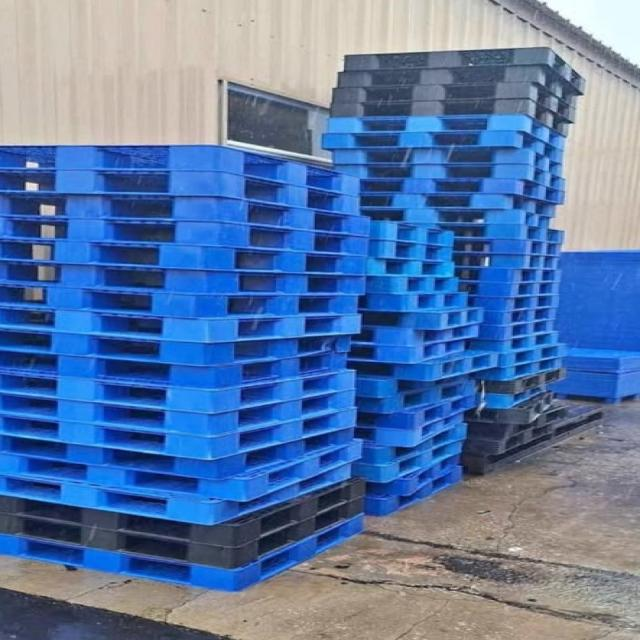non-igps: (0, 509, 373, 595), (0, 472, 371, 552), (0, 493, 370, 572), (0, 451, 359, 530), (0, 433, 373, 505), (0, 136, 374, 202), (0, 421, 365, 486), (0, 404, 365, 467), (0, 186, 378, 244), (0, 384, 363, 443), (0, 165, 368, 222), (0, 366, 366, 420), (0, 212, 380, 264), (0, 342, 354, 396), (0, 233, 378, 283), (0, 299, 370, 348), (0, 254, 375, 301), (0, 278, 367, 325), (0, 323, 358, 371), (335, 43, 592, 98), (330, 62, 582, 112), (452, 401, 612, 478), (326, 78, 581, 126), (323, 96, 573, 142), (320, 110, 572, 154), (315, 127, 571, 169), (326, 142, 567, 180), (321, 160, 572, 196), (352, 175, 570, 208), (342, 420, 477, 470), (352, 188, 560, 220), (354, 464, 471, 520), (346, 436, 468, 486), (341, 347, 504, 384), (352, 205, 556, 232), (348, 393, 482, 433), (355, 450, 466, 498), (347, 407, 469, 450), (350, 378, 482, 417), (458, 402, 576, 444), (397, 220, 570, 248), (347, 365, 479, 401), (344, 320, 483, 351), (342, 336, 472, 368), (458, 388, 562, 427), (354, 305, 489, 334), (473, 365, 573, 397), (352, 289, 473, 315), (363, 218, 457, 251), (464, 354, 567, 384), (362, 236, 458, 265), (449, 235, 564, 259), (461, 316, 562, 343), (461, 330, 565, 356), (360, 254, 460, 281), (361, 272, 464, 297), (449, 264, 566, 286), (447, 251, 564, 272), (455, 278, 565, 300), (472, 382, 551, 412), (473, 304, 564, 330), (494, 341, 572, 370), (463, 292, 563, 314)
